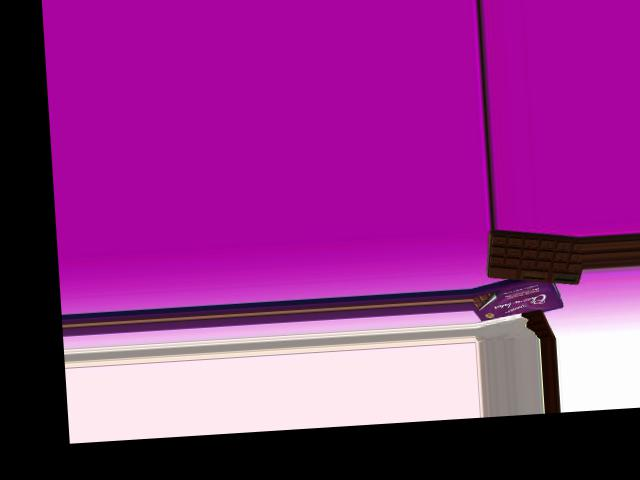chocolate: (485, 224, 580, 291)
